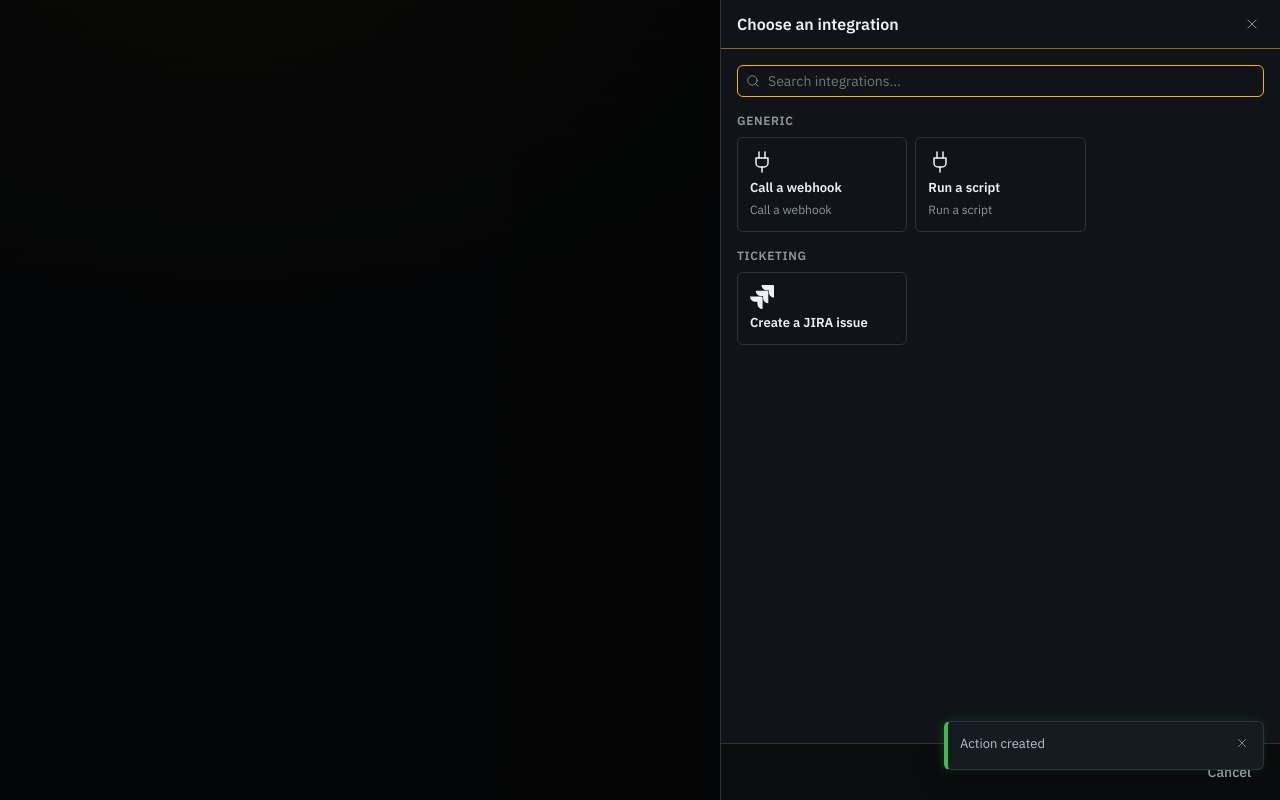
Test: ActionEditor › says the test alert was sent when the notifier delivered it
What coordinates should you click on to do the following:
click the button "Call a webhook Call a webhook"
I would click on:
 (822, 184)
Its box is [737,137,907,232].
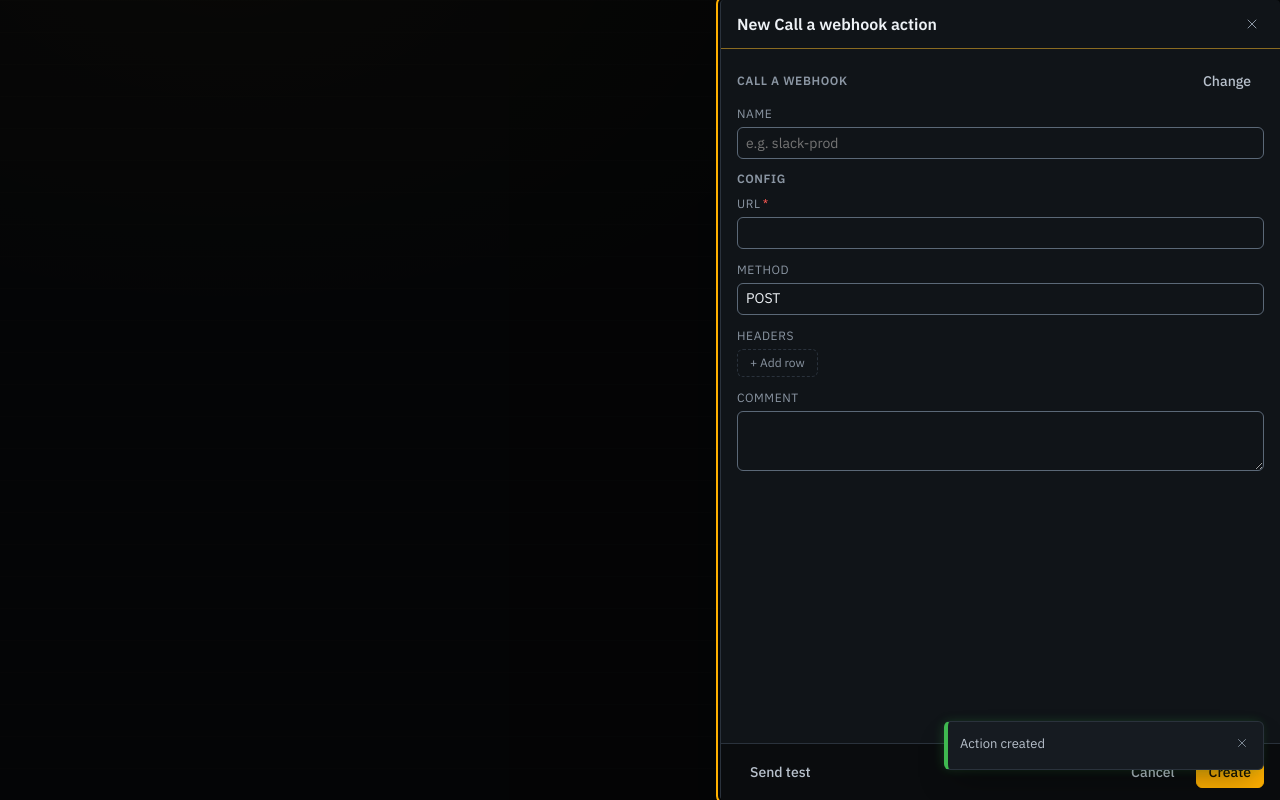
What coordinates should you click on to do the following:
click the button "Send test"
I would click on:
 (780, 772)
Its box is [737,756,824,788].
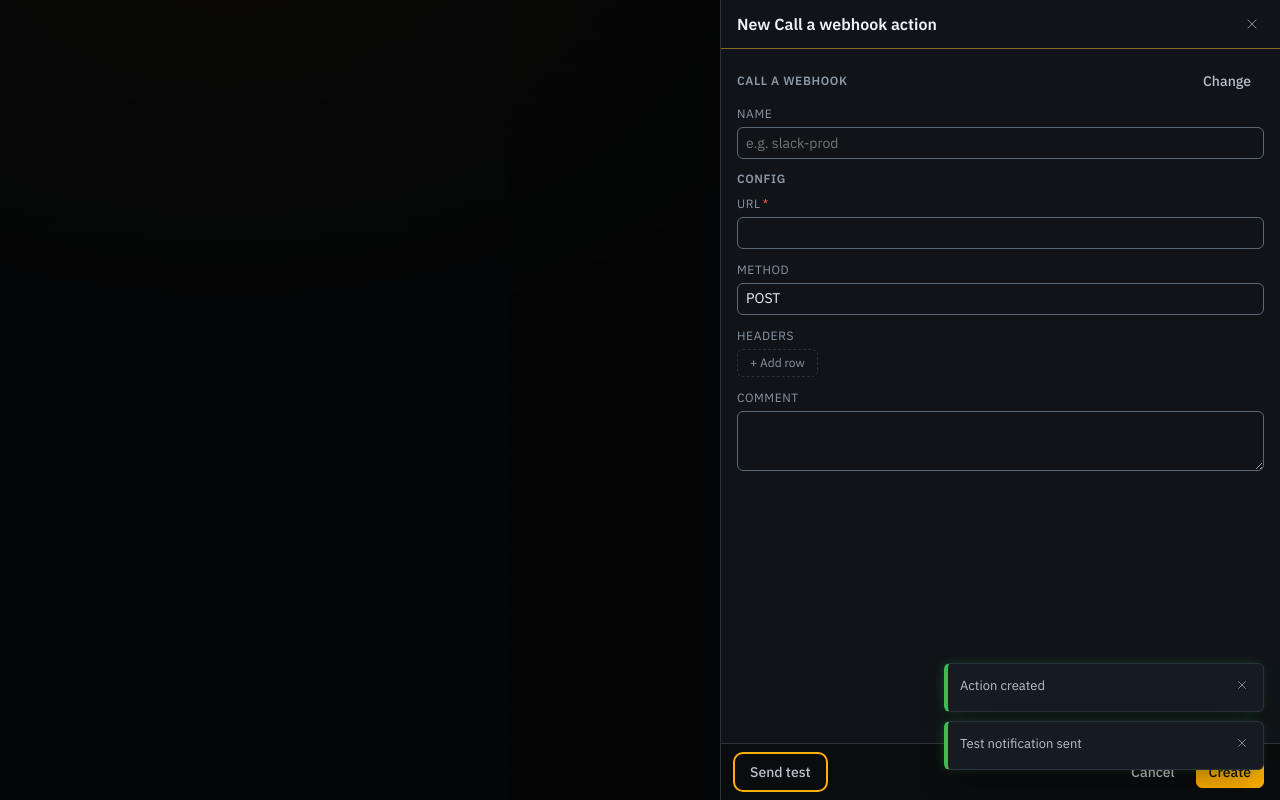
Check: the text "Test notification sent" is shown, box [960,734,1082,752]
